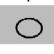no answer: (14, 15, 46, 39)
